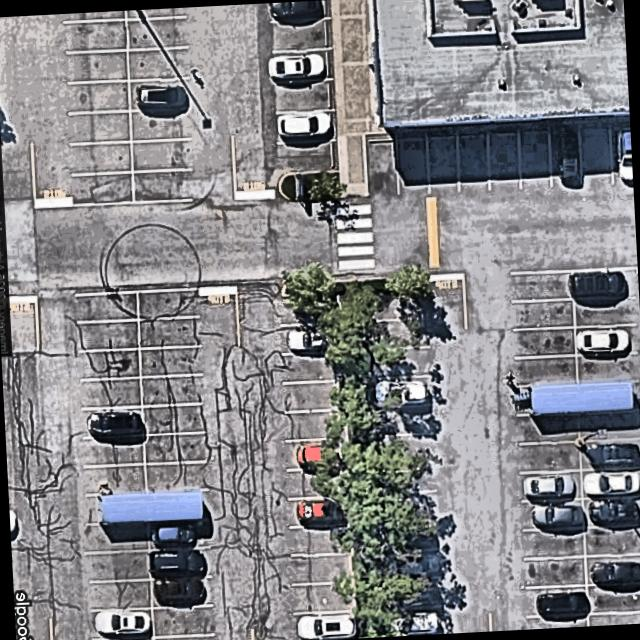car: (571, 269, 625, 298), (150, 548, 206, 574), (589, 440, 640, 468), (591, 559, 640, 588), (588, 498, 640, 525), (576, 325, 628, 352), (537, 590, 588, 617), (297, 612, 352, 637), (585, 469, 640, 493), (376, 379, 427, 404), (88, 409, 139, 434), (137, 81, 186, 107), (385, 610, 440, 633), (530, 504, 582, 528), (95, 609, 149, 632), (267, 54, 325, 75), (525, 472, 575, 496), (295, 497, 344, 521), (287, 327, 335, 351), (558, 128, 579, 180), (151, 521, 198, 544), (153, 577, 202, 599), (282, 111, 329, 133), (294, 441, 339, 463), (269, 0, 321, 17), (616, 128, 632, 181)
lot_boundary: (0, 0, 640, 640)
objects: (341, 282, 380, 638), (516, 379, 635, 415), (97, 488, 203, 521), (280, 275, 428, 293), (278, 168, 339, 200)
stall: (374, 548, 451, 584), (519, 127, 556, 195), (62, 17, 130, 54), (65, 48, 131, 85), (371, 486, 439, 521), (525, 583, 589, 620), (368, 373, 436, 407), (363, 285, 431, 319), (548, 126, 584, 190), (396, 136, 432, 200), (455, 134, 493, 194), (72, 171, 137, 206), (366, 345, 434, 378), (375, 605, 446, 636), (90, 606, 154, 640), (151, 574, 213, 609), (486, 131, 521, 193), (293, 580, 355, 615), (130, 106, 192, 141), (127, 46, 189, 81), (133, 168, 193, 204), (279, 321, 344, 354), (67, 80, 132, 113), (70, 140, 135, 173), (375, 520, 442, 552), (372, 432, 436, 465), (134, 288, 202, 319), (89, 578, 154, 610), (525, 554, 588, 587), (82, 405, 145, 438), (372, 404, 436, 436), (68, 110, 132, 142), (287, 495, 349, 528), (285, 408, 347, 441), (367, 316, 433, 347), (522, 439, 582, 473), (524, 498, 587, 530), (511, 269, 576, 300), (380, 577, 445, 608), (143, 402, 204, 435), (129, 77, 190, 110), (83, 434, 145, 466), (139, 317, 203, 348), (514, 298, 574, 331), (582, 494, 640, 528), (584, 551, 640, 586), (524, 526, 587, 557), (285, 438, 348, 469), (286, 465, 349, 496), (369, 137, 400, 200), (521, 411, 582, 443), (281, 293, 342, 325), (152, 604, 213, 636), (91, 549, 152, 581), (131, 138, 192, 170), (580, 406, 639, 439), (269, 18, 328, 51), (127, 15, 186, 48), (372, 464, 441, 492), (289, 525, 351, 556), (148, 517, 208, 549), (582, 128, 614, 188), (80, 376, 140, 408), (141, 344, 201, 376), (427, 136, 458, 197), (289, 553, 350, 584), (145, 460, 206, 491), (85, 521, 148, 551), (524, 469, 583, 501), (75, 291, 140, 320), (144, 432, 204, 463), (517, 353, 578, 383), (517, 325, 578, 355), (581, 467, 640, 498), (282, 351, 341, 382), (284, 381, 344, 411), (79, 347, 139, 377), (573, 268, 629, 300), (276, 110, 332, 142), (88, 463, 147, 493), (80, 320, 139, 350), (140, 374, 203, 402), (587, 581, 640, 614), (297, 611, 356, 640), (577, 352, 638, 380), (279, 141, 334, 172), (584, 526, 640, 556), (576, 324, 636, 352), (268, 49, 325, 78), (580, 440, 639, 468), (575, 296, 633, 324), (274, 80, 326, 111), (611, 125, 633, 185), (269, 0, 325, 17), (127, 7, 189, 20), (65, 10, 126, 22)
